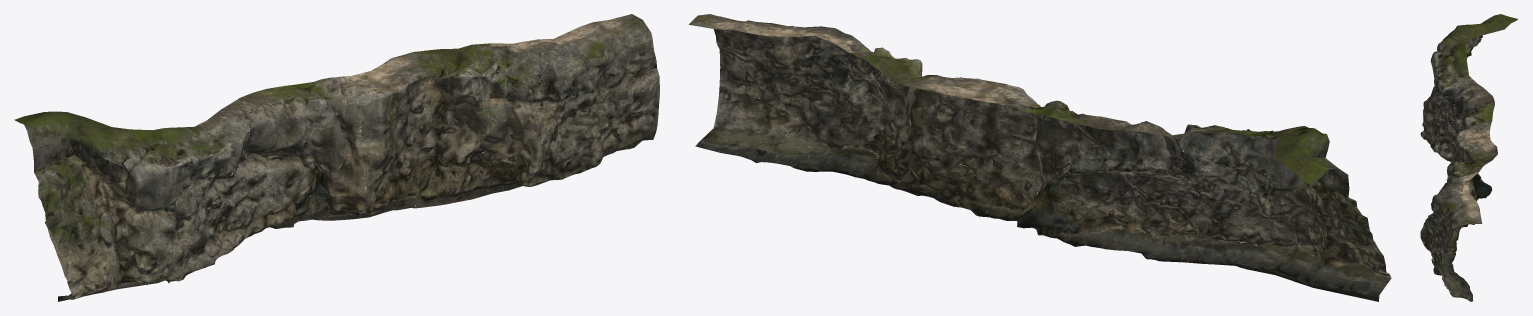
Rendered from coastal_cliff_02.glb.
The picture shows the model from 3 angles, left to right: view 1: azimuth 30°, elevation 25°; view 2: azimuth 150°, elevation 25°; view 3: azimuth 270°, elevation 25°; orthographic projection. The views are drawn at different scales.
Visible parts, largest first — view 1: coastal_cliff_02_LOD0; view 2: coastal_cliff_02_LOD0; view 3: coastal_cliff_02_LOD0.
Part boxes in pixels (bbox=[...]): coastal_cliff_02_LOD0: bbox=[14, 14, 659, 301]; coastal_cliff_02_LOD0: bbox=[689, 14, 1391, 301]; coastal_cliff_02_LOD0: bbox=[1420, 14, 1517, 301].
Size of the model in its own units: 40.8 by 9.98 by 8.6.
1 material, 1 textured.
